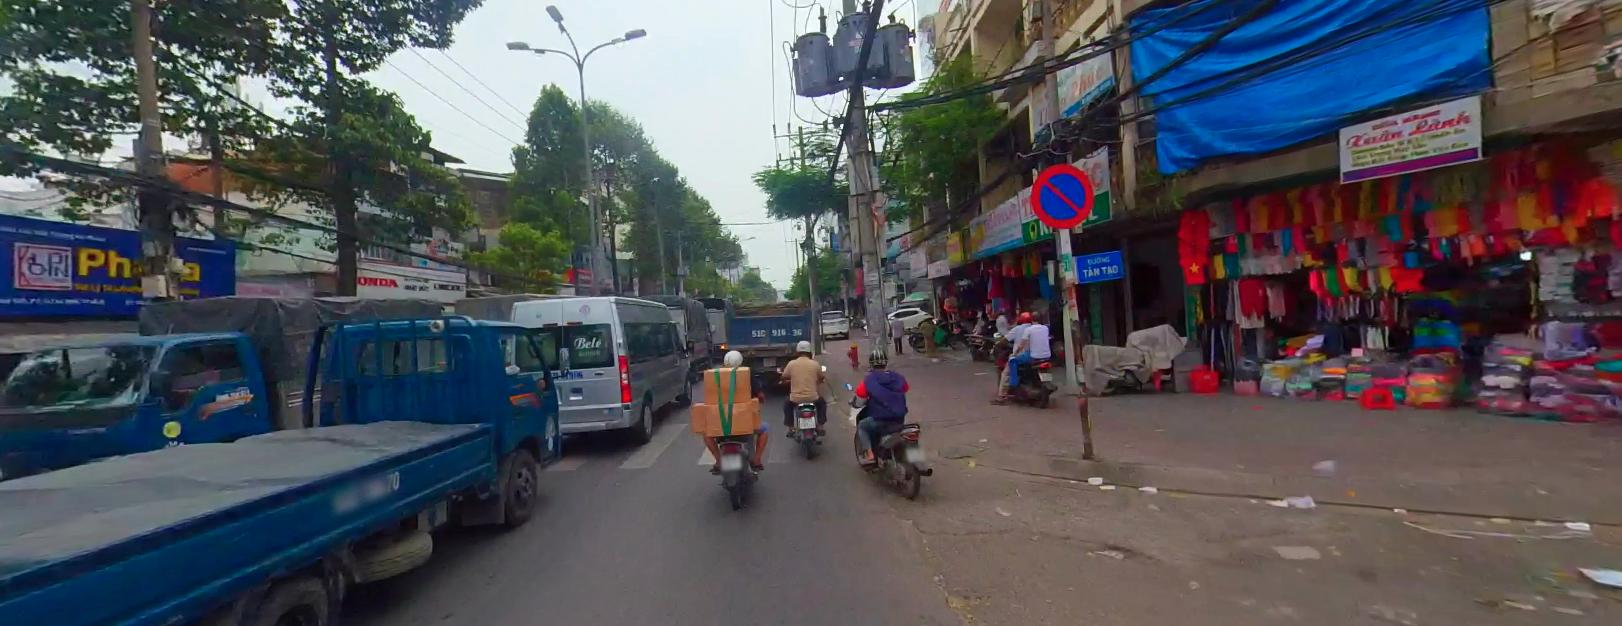Cam dung va do: (1024, 160, 1099, 232)
